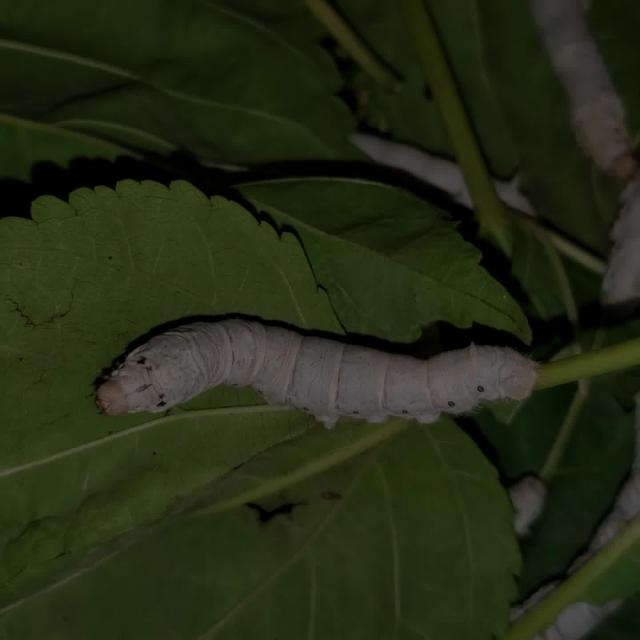Healthy: (83, 294, 546, 439)
